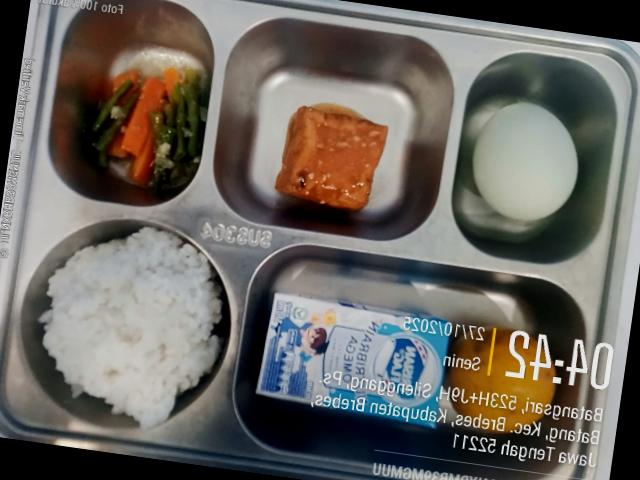buah: (449, 330, 555, 432)
nasi: (39, 228, 222, 428)
sayur: (67, 59, 210, 194)
susu: (256, 291, 450, 427)
tahu: (276, 107, 388, 211)
telur: (472, 103, 578, 221)
